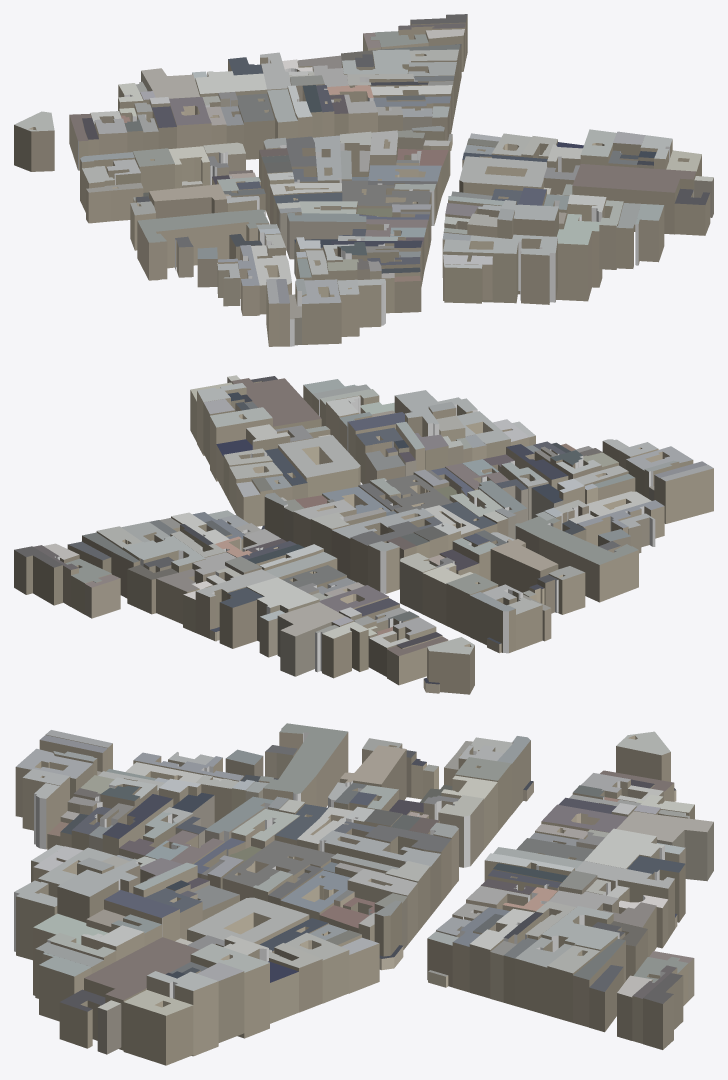
3 views of the same model, one above another, from view 1: azimuth 30°, elevation 25°; view 2: azimuth 150°, elevation 25°; view 3: azimuth 270°, elevation 25° (orthographic). The views are drawn at different scales.
Parts seen in each view (by area): view 1: tuile; view 2: tuile; view 3: tuile.
Boxes of the visible parts, left/top/right/bottom form: tuile: left=14, top=14, right=713, bottom=346; tuile: left=14, top=375, right=713, bottom=694; tuile: left=14, top=723, right=713, bottom=1065.
Bounding box in the file's own units: 278 × 42.95 × 278.
